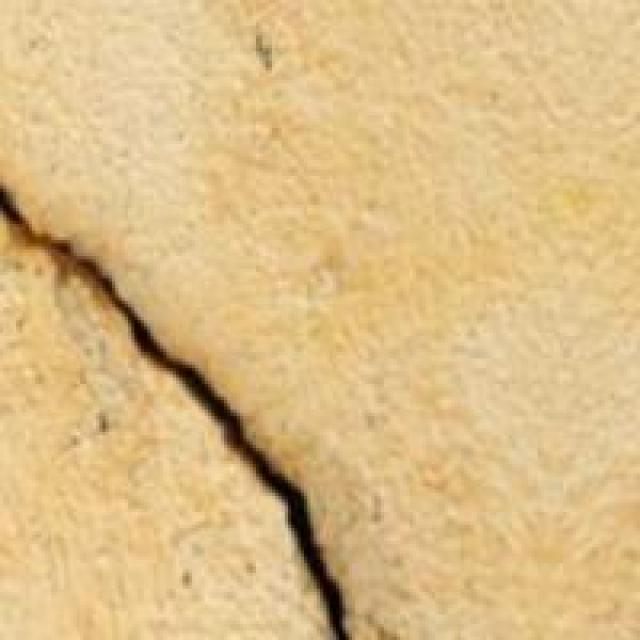crack: (0, 163, 387, 637)
